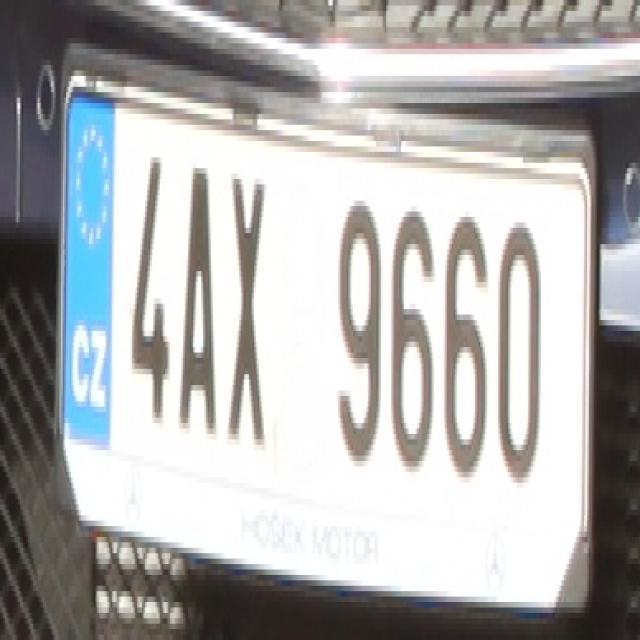0: (496, 212, 544, 478)
4: (127, 152, 170, 423)
6: (442, 201, 488, 472), (390, 201, 436, 472)
9: (337, 195, 382, 461)
A: (180, 146, 220, 434)
X: (226, 163, 267, 434)
